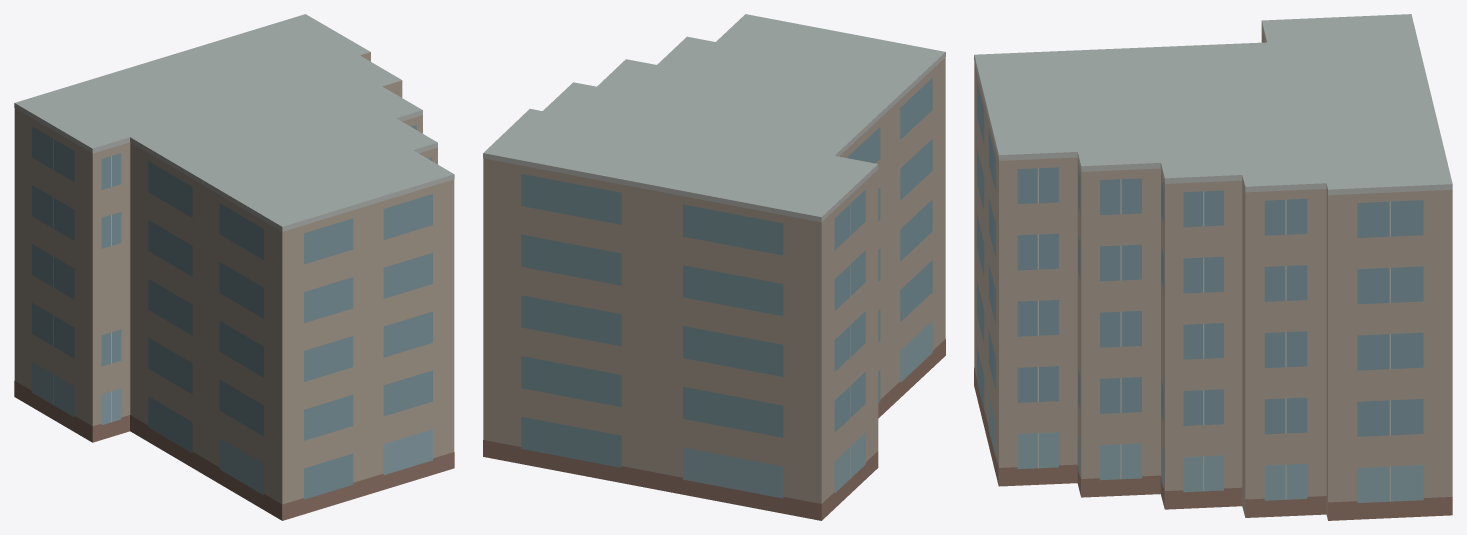
Rendered from survey-upis-32629944.glb.
3 renders of one model, left to right at view 1: azimuth 30°, elevation 25°; view 2: azimuth 150°, elevation 25°; view 3: azimuth 270°, elevation 25°, orthographic. The views are drawn at different scales.
Visible parts, largest first — view 1: survey-upis-32629944.tmp; view 2: survey-upis-32629944.tmp; view 3: survey-upis-32629944.tmp.
Part boxes in pixels (box(x1,y1,x2,y2)): survey-upis-32629944.tmp: box(14, 14, 454, 520); survey-upis-32629944.tmp: box(483, 14, 945, 520); survey-upis-32629944.tmp: box(974, 14, 1452, 520).
Size of the model in its own units: 16.33 by 14.35 by 18.8.
